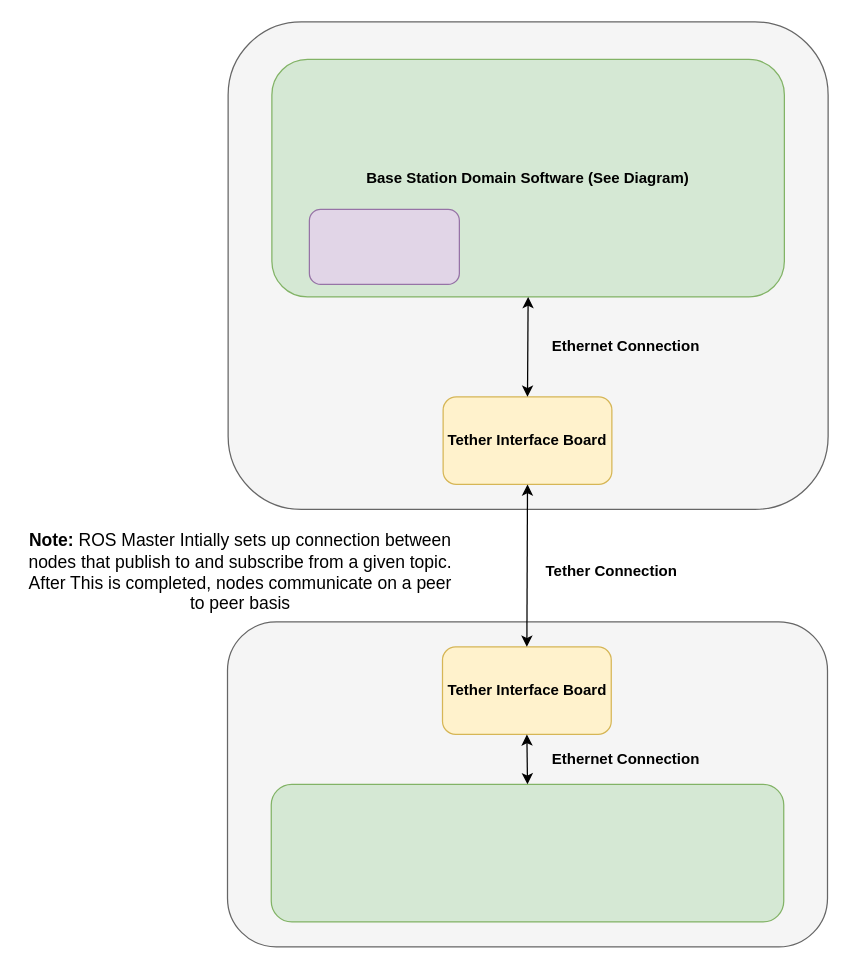
This 850x969 diagram has some shape labels left out. The shapes that lost their labels are listed below. From the top down, each one's centre as x and y in pixels, then its label:
the point at 383,246: rosmaster
the point at 527,852: ROV Domain Software (See Diagram)
